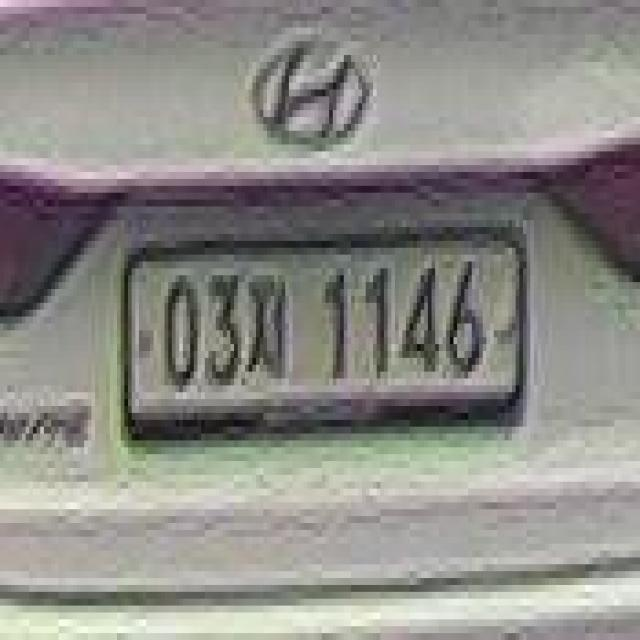illegal_plate: (118, 225, 531, 453)
